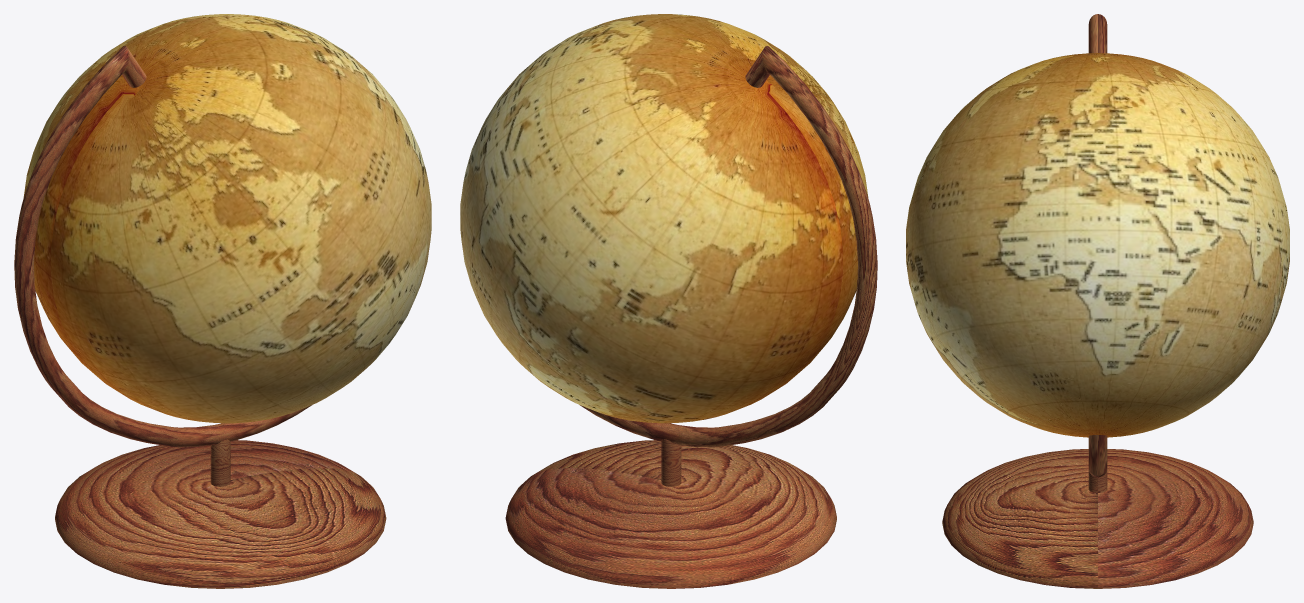
Rendered from Globe.fbx.
The picture shows the model from 3 angles, left to right: view 1: azimuth 30°, elevation 25°; view 2: azimuth 150°, elevation 25°; view 3: azimuth 270°, elevation 25°; orthographic projection. The views are drawn at different scales.
Parts seen in each view (by area): view 1: Sphere, Capsule, Sweep, Cylinder; view 2: Sphere, Capsule, Sweep, Cylinder; view 3: Sphere, Capsule, Sweep.
Part boxes in pixels (box(x1,y1,x2,y2)): Sphere: box(23, 14, 431, 423); Capsule: box(55, 440, 386, 588); Sweep: box(14, 46, 311, 447); Cylinder: box(210, 439, 230, 486); Sphere: box(460, 14, 868, 423); Capsule: box(505, 440, 836, 588); Sweep: box(580, 46, 877, 447); Cylinder: box(661, 439, 681, 486); Sphere: box(906, 53, 1289, 437); Capsule: box(942, 449, 1253, 588); Sweep: box(1088, 14, 1107, 477).
Bounding box in the file's own units: 89.41 × 109 × 81.35.
Materials: 3 (2 with a texture image).
